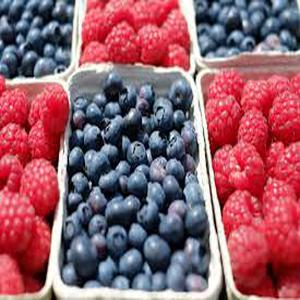raspb: (214, 72, 300, 289)
